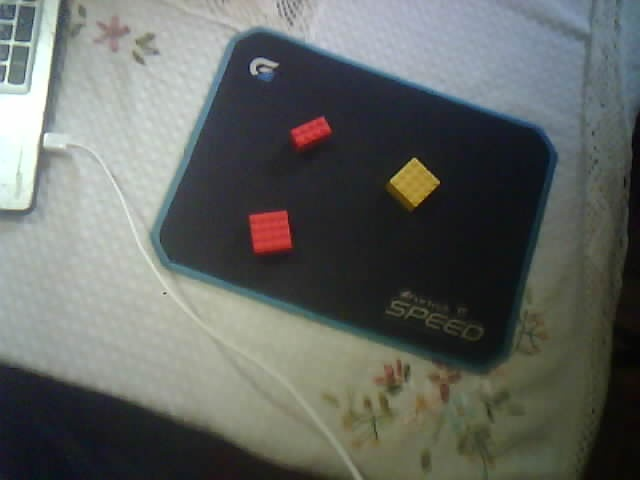lego: (384, 156, 441, 213), (247, 208, 294, 258), (289, 115, 333, 153)
